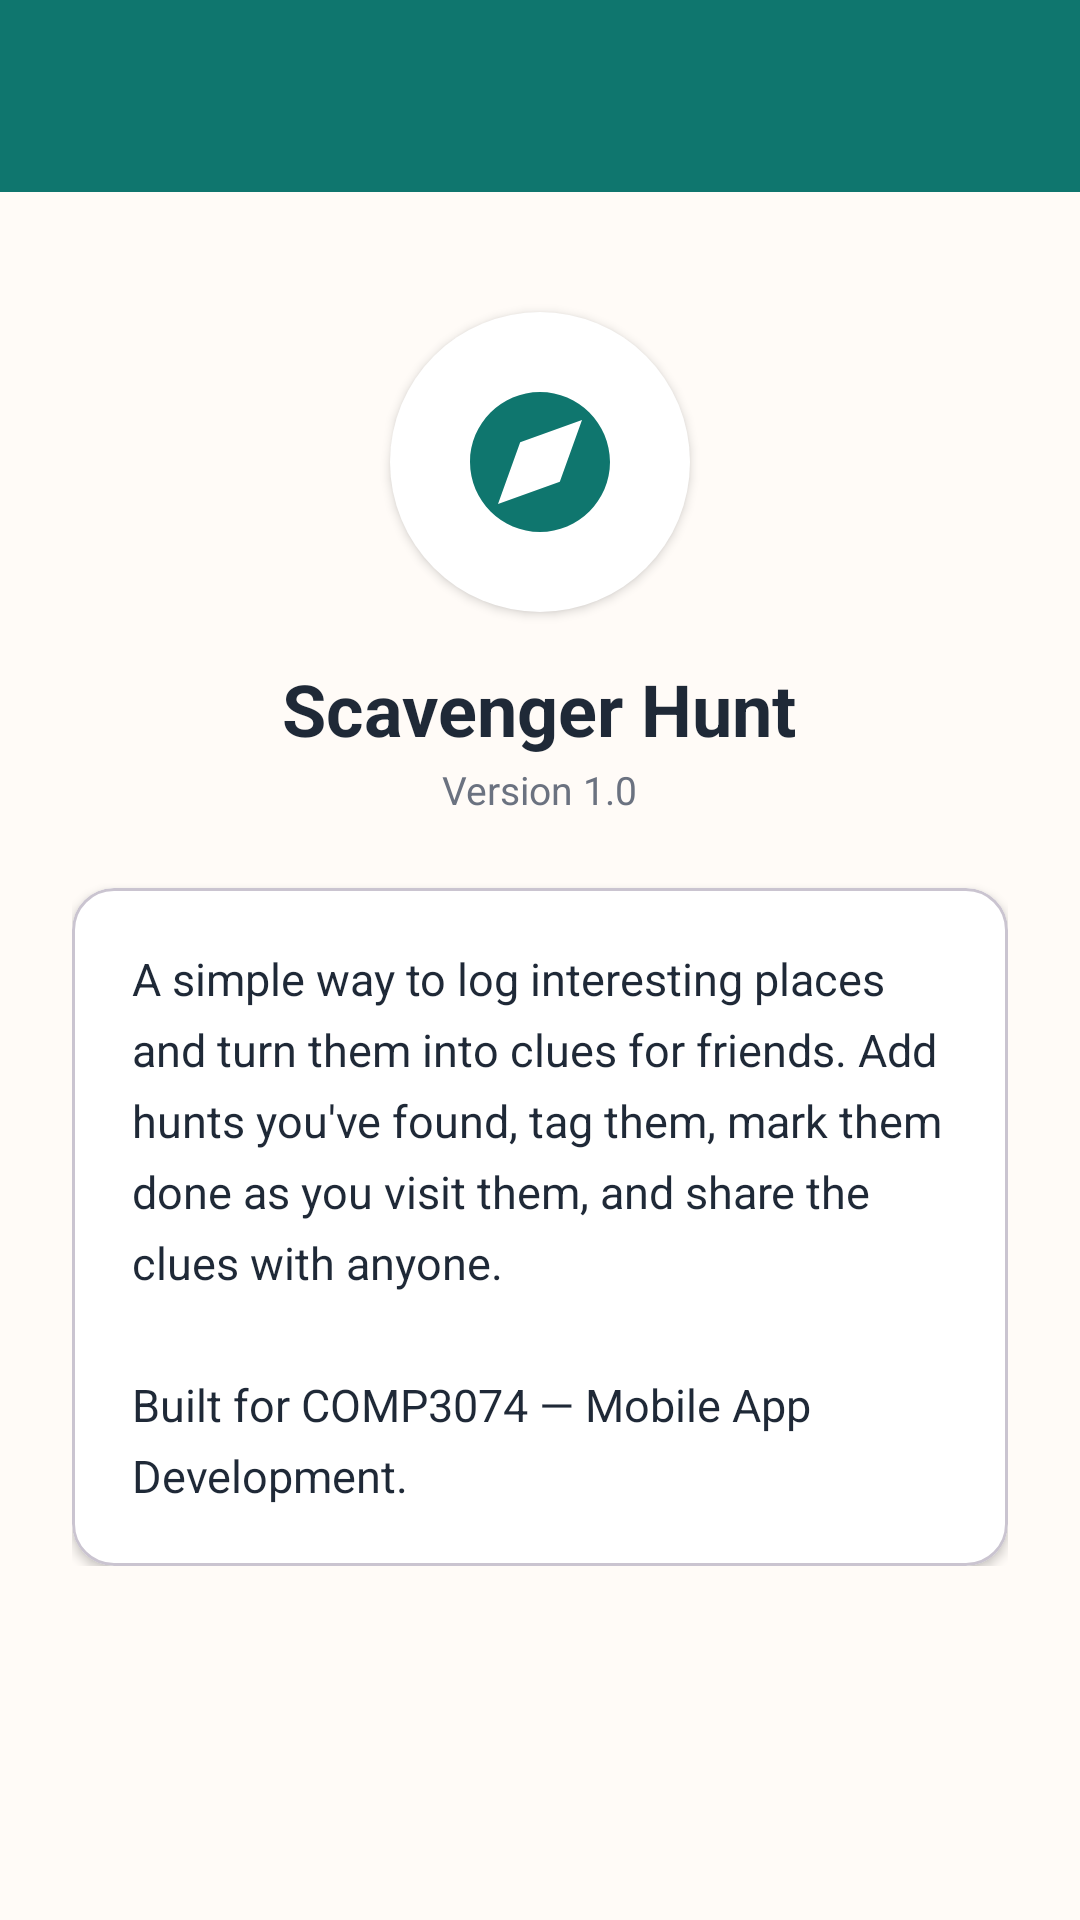

Icon bounding boxes for this 1080 x 1920 phone screenshot, format (x1, y1, x2, y2):
compass: (470, 392, 610, 532)
